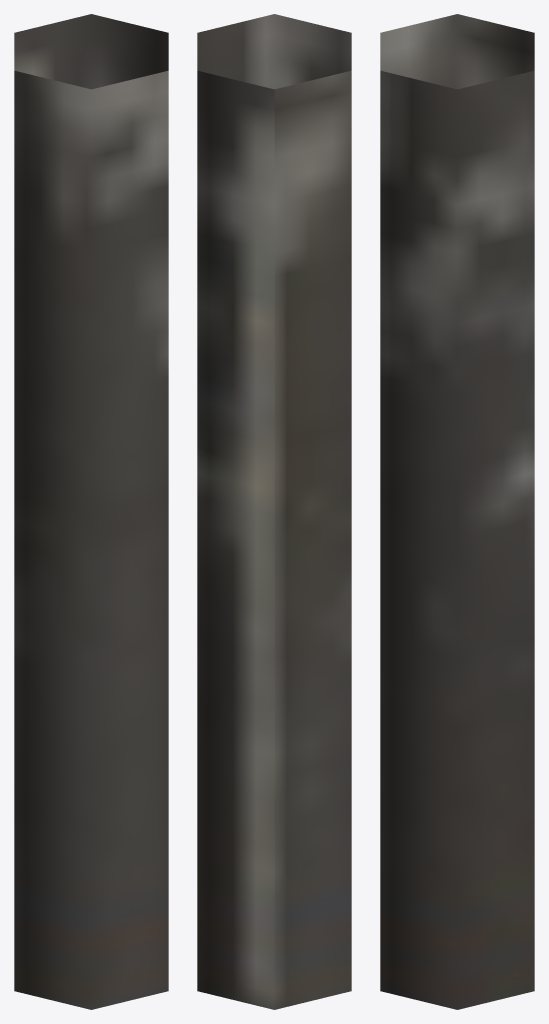
Rendered from ThickPipe_08.FBX.
The picture shows the model from 3 angles, left to right: view 1: azimuth 30°, elevation 25°; view 2: azimuth 150°, elevation 25°; view 3: azimuth 270°, elevation 25°; orthographic projection.
Visible parts, largest first — view 1: ThickPipe_08; view 2: ThickPipe_08; view 3: ThickPipe_08.
Part boxes in pixels (x1,y1,x2,y2): ThickPipe_08: [14, 14, 168, 1009]; ThickPipe_08: [197, 14, 351, 1009]; ThickPipe_08: [380, 14, 534, 1009].
Bounding box in the file's own units: 24 × 137 × 20.78.
